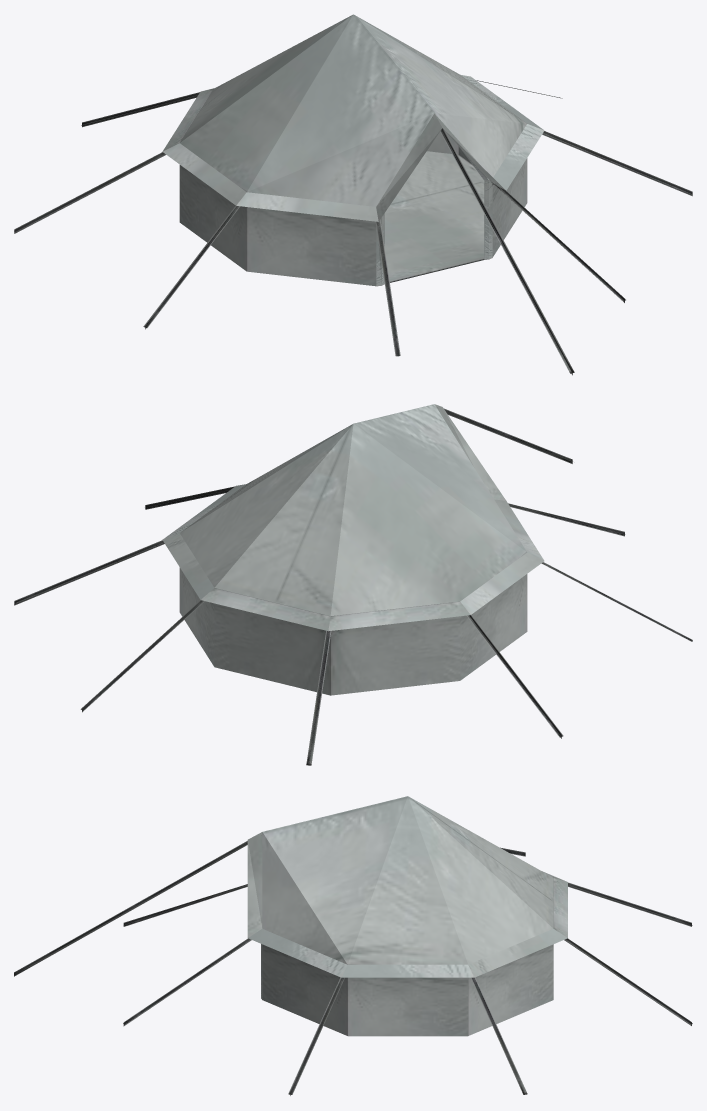
Rendered from Tent01WB.obj.
The picture shows the model from 3 angles, top to bottom: view 1: azimuth 30°, elevation 25°; view 2: azimuth 150°, elevation 25°; view 3: azimuth 270°, elevation 25°; orthographic projection. The views are drawn at different scales.
Parts seen in each view (by area): view 1: Tent01WB; view 2: Tent01WB; view 3: Tent01WB.
Boxes of the visible parts, left/top/right/bottom form: Tent01WB: left=14, top=14, right=692, bottom=375; Tent01WB: left=14, top=404, right=692, bottom=765; Tent01WB: left=14, top=796, right=692, bottom=1095.
Size of the model in its own units: 10.85 by 3.8 by 12.93.
